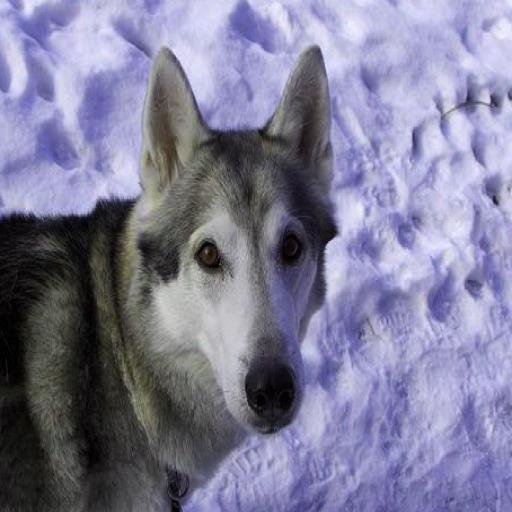dog_face: (146, 43, 336, 439)
